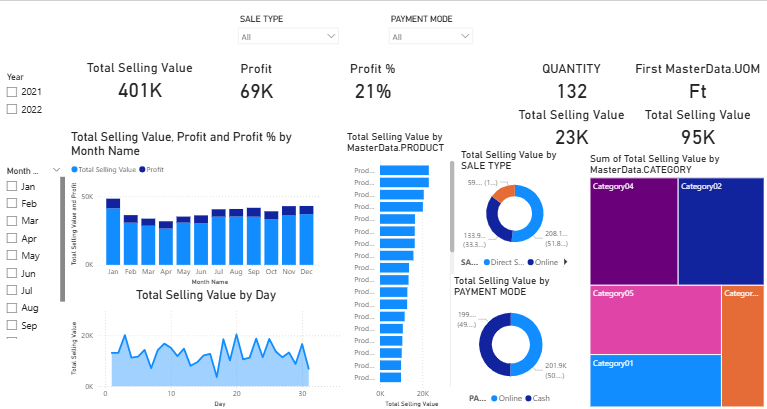

The page's visual inventory and layout, read from the dashboard file:
{"tool":"powerbi","page":{"name":"Page 1","canvas":[1280,720],"ordinal":0},"visuals":[{"type":"slicer","fields":{"Values":["InputData.Year"]},"box":[0,152.2,115,99.8],"z":0},{"type":"slicer","fields":{"Values":["InputData.SALE TYPE"]},"box":[388,55.4,188.1,57.1],"z":1000},{"type":"slicer","fields":{"Values":["InputData.PAYMENT MODE"]},"box":[640,55.4,159.6,77.3],"z":2000},{"type":"slicer","fields":{"Values":["InputData.Month Name"]},"box":[0,307.7,115,297.6],"z":3000},{"type":"card","title":"Total Selling Value","fields":{"Values":["Sum(InputData.Total Selling Value)"]},"box":[138.7,137,192.8,76.1],"z":4000},{"type":"card","title":"Total Selling Value","fields":{"Values":["Sum(InputData.Total Selling Value)"]},"box":[1050.4,214.2,229.6,77.1],"z":5000},{"type":"card","title":"Total Selling Value","fields":{"Values":["Sum(InputData.Total Selling Value)"]},"box":[858.5,214.2,191.9,77.1],"z":6000},{"type":"card","title":"QUANTITY","fields":{"Values":["Sum(InputData.QUANTITY)"]},"box":[858.5,138.8,191.9,75.4],"z":7000},{"type":"card","title":"First MasterData.UOM","fields":{"Values":["Min(InputData.MasterData.UOM)"]},"box":[1050.4,138.8,229.6,75.4],"z":8000},{"type":"card","title":"Profit","fields":{"Values":["InputData.Profit"]},"box":[331.4,138.7,194.5,76.1],"z":9000},{"type":"card","title":"Profit %","fields":{"Values":["InputData.Profit %"]},"box":[525.9,138.7,192.8,76.1],"z":10000},{"type":"columnChart","fields":{"Category":["InputData.Month Name"],"Y":["Sum(InputData.Total Selling Value)","InputData.Profit"]},"box":[115,253.6,426.1,263.8],"z":11000},{"type":"clusteredBarChart","fields":{"Y":["Sum(InputData.Total Selling Value)"],"Category":["InputData.MasterData.PRODUCT"]},"box":[574.9,253.6,189.4,466.7],"z":12000},{"type":"areaChart","fields":{"Y":["Sum(InputData.Total Selling Value)"],"Category":["InputData.Day"]},"box":[115,517.4,459.9,202.9],"z":13000},{"type":"donutChart","fields":{"Y":["Sum(InputData.Total Selling Value)"],"Category":["InputData.SALE TYPE"]},"box":[764.3,284.1,189.4,209.7],"z":14000},{"type":"donutChart","fields":{"Y":["Sum(InputData.Total Selling Value)"],"Category":["InputData.PAYMENT MODE"]},"box":[754.1,493.7,199.5,226.6],"z":15000},{"type":"treemap","fields":{"Group":["InputData.MasterData.CATEGORY"],"Values":["Sum(InputData.Total Selling Value)"]},"box":[979.7,290.5,300.3,429.9],"z":15001}]}

Visuals, with their boxes on the page's 1280x720 design canvas (x1, y1, x2, y2). These are canvas units, not pixel positions in the 767x409 screenshot, which may show the page scaled, cropped or inside an application window:
slicer - InputData.Year: (x1=0, y1=152, x2=115, y2=252)
slicer - InputData.SALE TYPE: (x1=388, y1=55, x2=576, y2=112)
slicer - InputData.PAYMENT MODE: (x1=640, y1=55, x2=800, y2=133)
slicer - InputData.Month Name: (x1=0, y1=308, x2=115, y2=605)
"Total Selling Value" card: (x1=139, y1=137, x2=332, y2=213)
"Total Selling Value" card: (x1=1050, y1=214, x2=1280, y2=291)
"Total Selling Value" card: (x1=858, y1=214, x2=1050, y2=291)
"QUANTITY" card: (x1=858, y1=139, x2=1050, y2=214)
"First MasterData.UOM" card: (x1=1050, y1=139, x2=1280, y2=214)
"Profit" card: (x1=331, y1=139, x2=526, y2=215)
"Profit %" card: (x1=526, y1=139, x2=719, y2=215)
columnChart - InputData.Month Name x Sum(InputData.Total Selling Value): (x1=115, y1=254, x2=541, y2=517)
clusteredBarChart - Sum(InputData.Total Selling Value) x InputData.MasterData.PRODUCT: (x1=575, y1=254, x2=764, y2=720)
areaChart - Sum(InputData.Total Selling Value) x InputData.Day: (x1=115, y1=517, x2=575, y2=720)
donutChart - Sum(InputData.Total Selling Value) x InputData.SALE TYPE: (x1=764, y1=284, x2=954, y2=494)
donutChart - Sum(InputData.Total Selling Value) x InputData.PAYMENT MODE: (x1=754, y1=494, x2=954, y2=720)
treemap - InputData.MasterData.CATEGORY x Sum(InputData.Total Selling Value): (x1=980, y1=290, x2=1280, y2=720)
